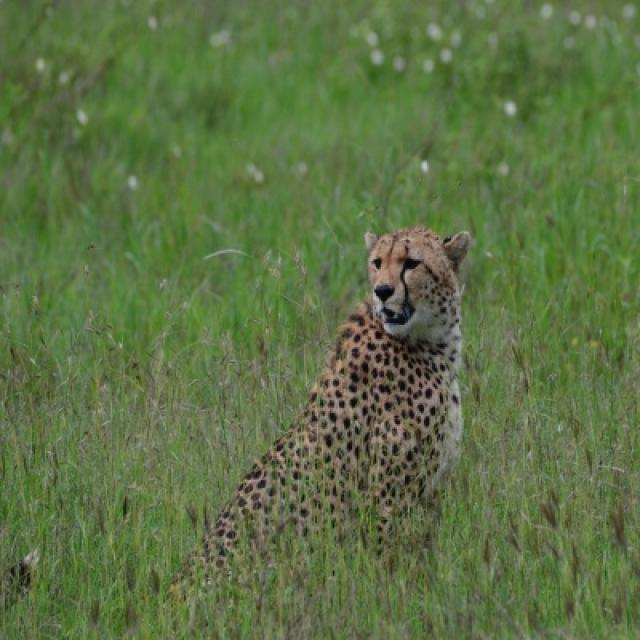Cheetah: (203, 226, 474, 557)
